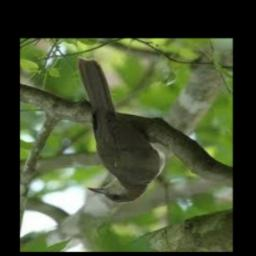Cuckoo: (78, 58, 165, 203)
